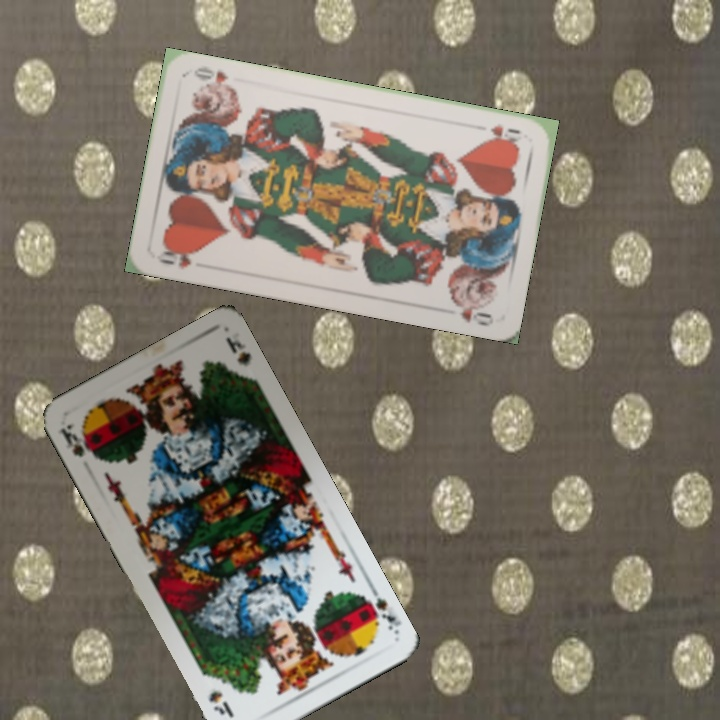HO: (153, 243, 202, 272), (482, 120, 523, 147)
SK: (355, 582, 402, 637), (55, 419, 99, 463)
